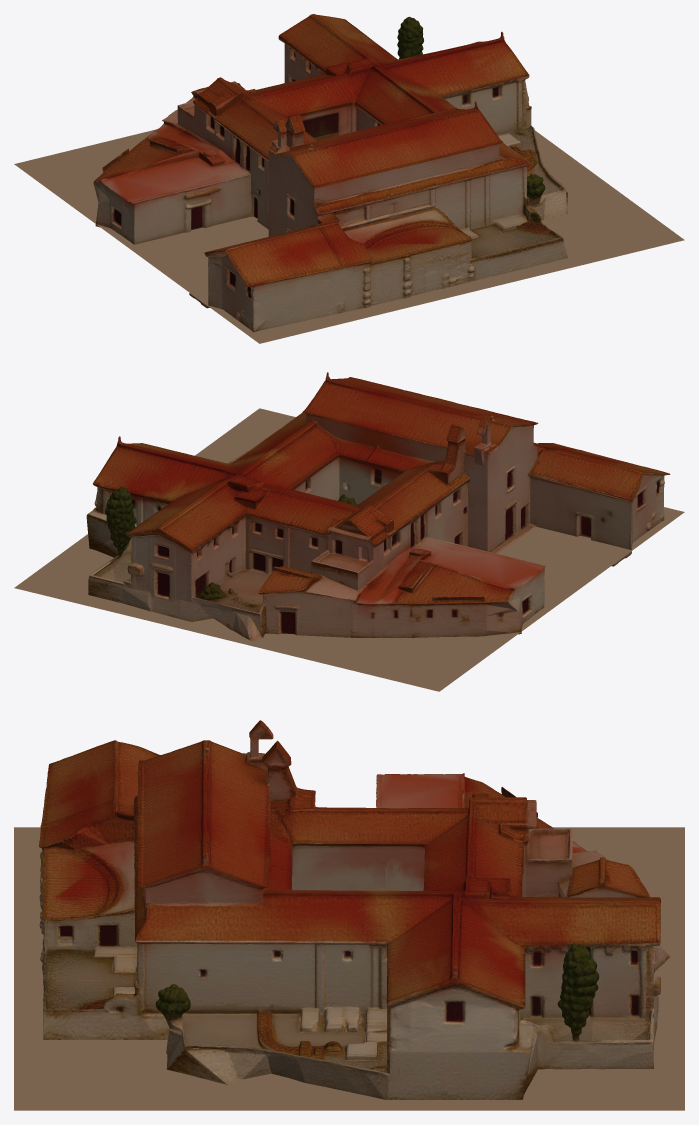
The model's file is cappuccini1.glb.
3 renders of one model, top to bottom at view 1: azimuth 30°, elevation 25°; view 2: azimuth 150°, elevation 25°; view 3: azimuth 270°, elevation 25°, orthographic. The views are drawn at different scales.
Visible parts, largest first — view 1: tripo_node_1b4055a2-51bf-4e8c-bec9-d960ed33bd6b, Piano; view 2: tripo_node_1b4055a2-51bf-4e8c-bec9-d960ed33bd6b, Piano; view 3: tripo_node_1b4055a2-51bf-4e8c-bec9-d960ed33bd6b, Piano.
Boxes of the visible parts, left/top/right/bottom form: tripo_node_1b4055a2-51bf-4e8c-bec9-d960ed33bd6b: left=93, top=14, right=567, bottom=332; Piano: left=14, top=129, right=684, bottom=343; tripo_node_1b4055a2-51bf-4e8c-bec9-d960ed33bd6b: left=86, top=372, right=670, bottom=640; Piano: left=14, top=408, right=684, bottom=691; tripo_node_1b4055a2-51bf-4e8c-bec9-d960ed33bd6b: left=39, top=720, right=669, bottom=1099; Piano: left=14, top=827, right=684, bottom=1110.
Bounding box in the file's own units: 1 × 0.3068 × 1.
2 materials, 1 textured.
